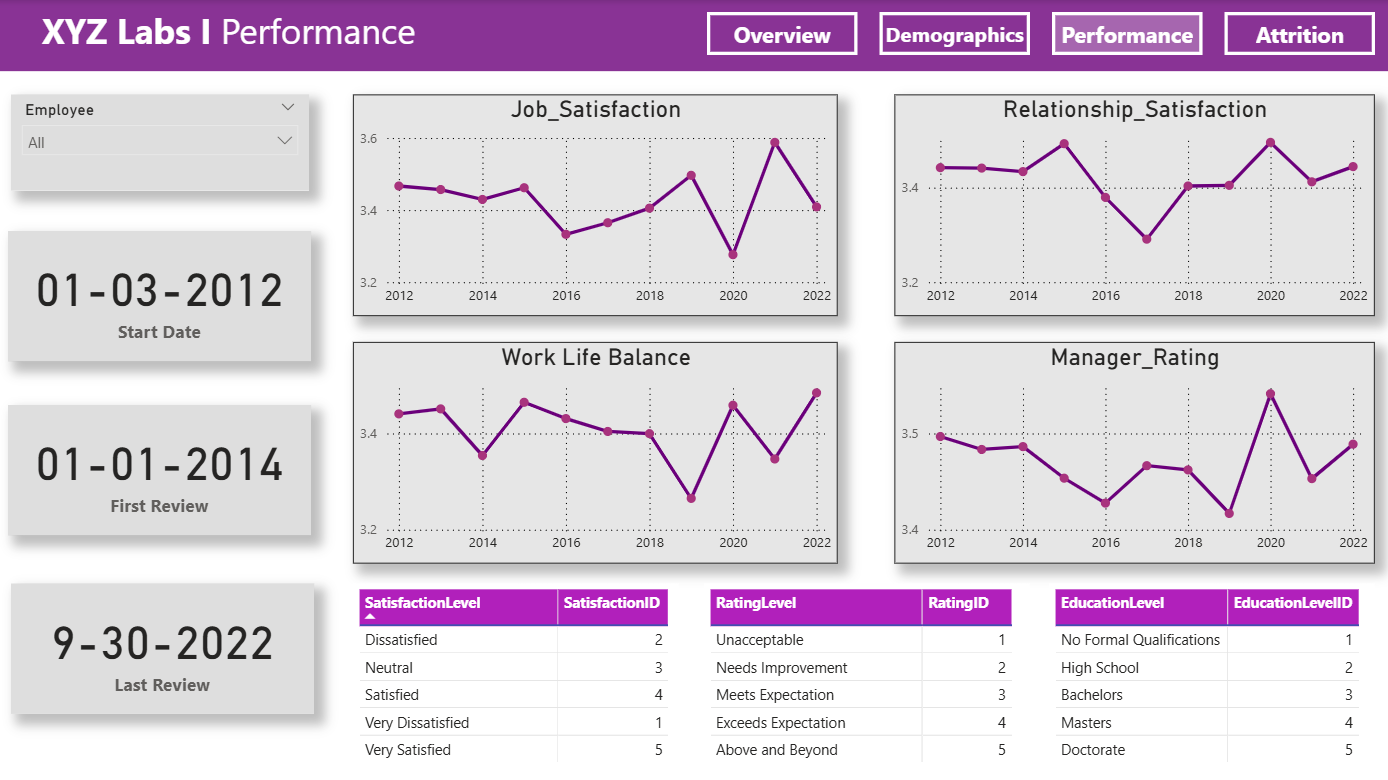

This screenshot's page, from the dashboard's own definition file:
{"tool":"powerbi","page":{"name":"Performance","canvas":[1280,720],"ordinal":2},"visuals":[{"type":"shape","box":[0,0,1279.5,65.1],"z":0},{"type":"textbox","box":[13.6,0,398.2,65.1],"z":1000},{"type":"actionButton","box":[808.6,10.6,137.8,39.4],"z":2000},{"type":"actionButton","box":[651.1,10.6,137.8,39.4],"z":3000},{"type":"actionButton","box":[1123.5,10.6,137.8,39.4],"z":4000},{"type":"actionButton","box":[966.1,10.6,137.8,39.4],"z":5000},{"type":"slicer","fields":{"Values":["Employee.Full Name"]},"box":[13.6,86.3,272.6,87.8],"z":6000},{"type":"card","fields":{"Values":["Min(Employee.HireDate)"]},"box":[10.6,212,277.1,119.6],"z":7000},{"type":"card","fields":{"Values":["Min(PerformanceRating.ReviewDate)"]},"box":[10.6,371,277.1,119.6],"z":8000},{"type":"card","fields":{"Values":["Max(PerformanceRating.ReviewDate)"]},"box":[13.6,534.5,277.1,119.6],"z":9000},{"type":"lineChart","title":"Job_Satisfaction","fields":{"Y":["All_Measures.Job_Satification"],"Category":["Date.Date.Variation.Date Hierarchy.Year"]},"box":[327.1,86.3,443.7,202.9],"z":10000},{"type":"lineChart","title":"Relationship_Satisfaction","fields":{"Category":["Date.Date.Variation.Date Hierarchy.Year"],"Y":["Avg(PerformanceRating.RelationshipSatisfaction)"]},"box":[822.2,86.3,439.1,202.9],"z":11000},{"type":"lineChart","title":"Manager_Rating","fields":{"Category":["Date.Date.Variation.Date Hierarchy.Year"],"Y":["Avg(PerformanceRating.ManagerRating)"]},"box":[822.2,313.4,439.1,202.9],"z":12000},{"type":"lineChart","title":"Work Life Balance","fields":{"Category":["Date.Date.Variation.Date Hierarchy.Year"],"Y":["Avg(PerformanceRating.WorkLifeBalance)"]},"box":[327.1,313.4,443.7,202.9],"z":13000},{"type":"tableEx","fields":{"Values":["SatisfiedLevel.SatisfactionLevel","SatisfiedLevel.SatisfactionID"]},"box":[327.1,534.5,298.3,172.6],"z":14000},{"type":"tableEx","fields":{"Values":["RatingLevel.RatingLevel","RatingLevel.RatingID"]},"box":[648.1,534.5,298.3,172.6],"z":15000},{"type":"tableEx","fields":{"Values":["EducationLevel.EducationLevel","EducationLevel.EducationLevelID"]},"box":[963,534.5,298.3,172.6],"z":16000}]}

Visuals, with their boxes in screenshot pixels (x1, y1, x2, y2), scaled from the page's 1280x720 canvas onto the 1388x780 screenshot:
shape: bbox=[0, 0, 1387, 71]
textbox: bbox=[15, 0, 447, 71]
actionButton: bbox=[877, 11, 1026, 54]
actionButton: bbox=[706, 11, 855, 54]
actionButton: bbox=[1218, 11, 1368, 54]
actionButton: bbox=[1048, 11, 1197, 54]
slicer - Employee.Full Name: bbox=[15, 93, 310, 189]
card - Min(Employee.HireDate): bbox=[11, 230, 312, 359]
card - Min(PerformanceRating.ReviewDate): bbox=[11, 402, 312, 531]
card - Max(PerformanceRating.ReviewDate): bbox=[15, 579, 315, 709]
"Job_Satisfaction" lineChart: bbox=[355, 93, 836, 313]
"Relationship_Satisfaction" lineChart: bbox=[892, 93, 1368, 313]
"Manager_Rating" lineChart: bbox=[892, 340, 1368, 559]
"Work Life Balance" lineChart: bbox=[355, 340, 836, 559]
tableEx - SatisfiedLevel.SatisfactionLevel x SatisfiedLevel.SatisfactionID: bbox=[355, 579, 678, 766]
tableEx - RatingLevel.RatingLevel x RatingLevel.RatingID: bbox=[703, 579, 1026, 766]
tableEx - EducationLevel.EducationLevel x EducationLevel.EducationLevelID: bbox=[1044, 579, 1368, 766]
